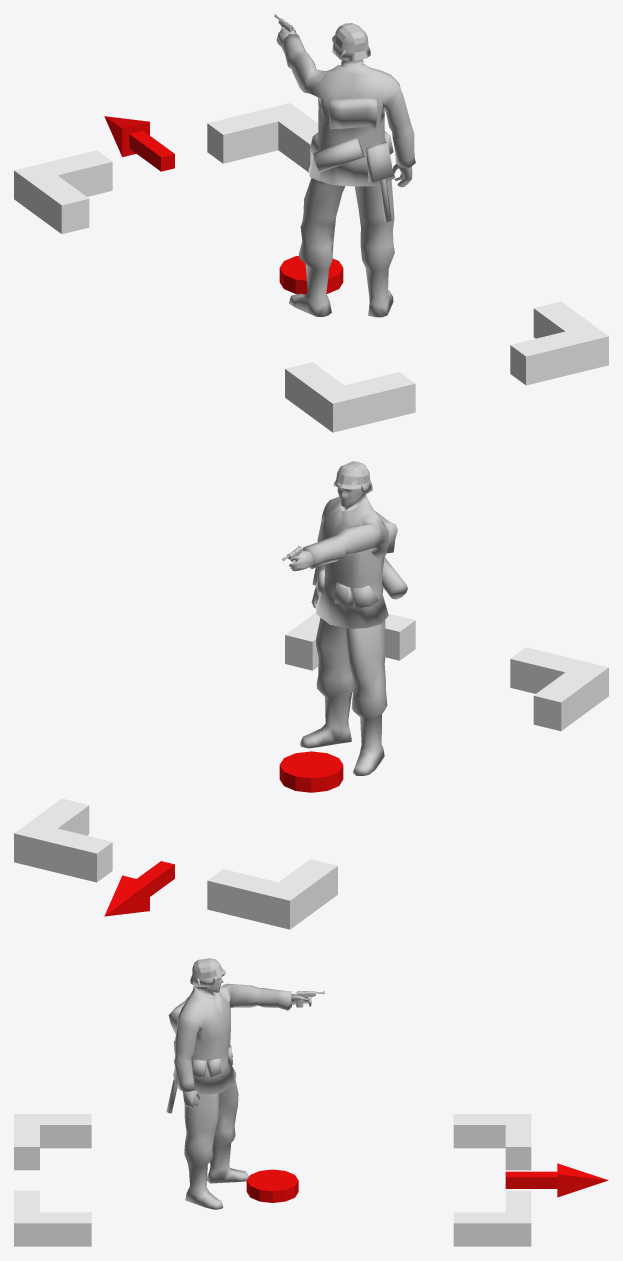
3 renders of one model, top to bottom at view 1: azimuth 30°, elevation 25°; view 2: azimuth 150°, elevation 25°; view 3: azimuth 270°, elevation 25°, orthographic. The views are drawn at different scales.
Parts seen in each view (by area): view 1: i_frame_Cube.001, gpl, arrow_Cube, pointer_Cylinder, gpl_h; view 2: i_frame_Cube.001, gpl, pointer_Cylinder, arrow_Cube, gpl_h; view 3: i_frame_Cube.001, gpl, arrow_Cube, pointer_Cylinder, gpl_h.
Part boxes in pixels (left/top/right/bottom): i_frame_Cube.001: left=14, top=103, right=608, bottom=432; gpl: left=276, top=27, right=415, bottom=317; arrow_Cube: left=104, top=116, right=174, bottom=171; pointer_Cylinder: left=279, top=256, right=343, bottom=294; gpl_h: left=332, top=23, right=370, bottom=60; i_frame_Cube.001: left=14, top=612, right=608, bottom=929; gpl: left=288, top=487, right=407, bottom=775; pointer_Cylinder: left=279, top=751, right=343, bottom=792; arrow_Cube: left=104, top=861, right=174, bottom=916; gpl_h: left=333, top=461, right=372, bottom=494; i_frame_Cube.001: left=14, top=1114, right=531, bottom=1246; gpl: left=166, top=977, right=311, bottom=1209; arrow_Cube: left=505, top=1163, right=608, bottom=1197; pointer_Cylinder: left=246, top=1169, right=298, bottom=1202; gpl_h: left=190, top=958, right=225, bottom=987.
Bounding box in the file's own units: 2 × 1.98 × 4.6.
